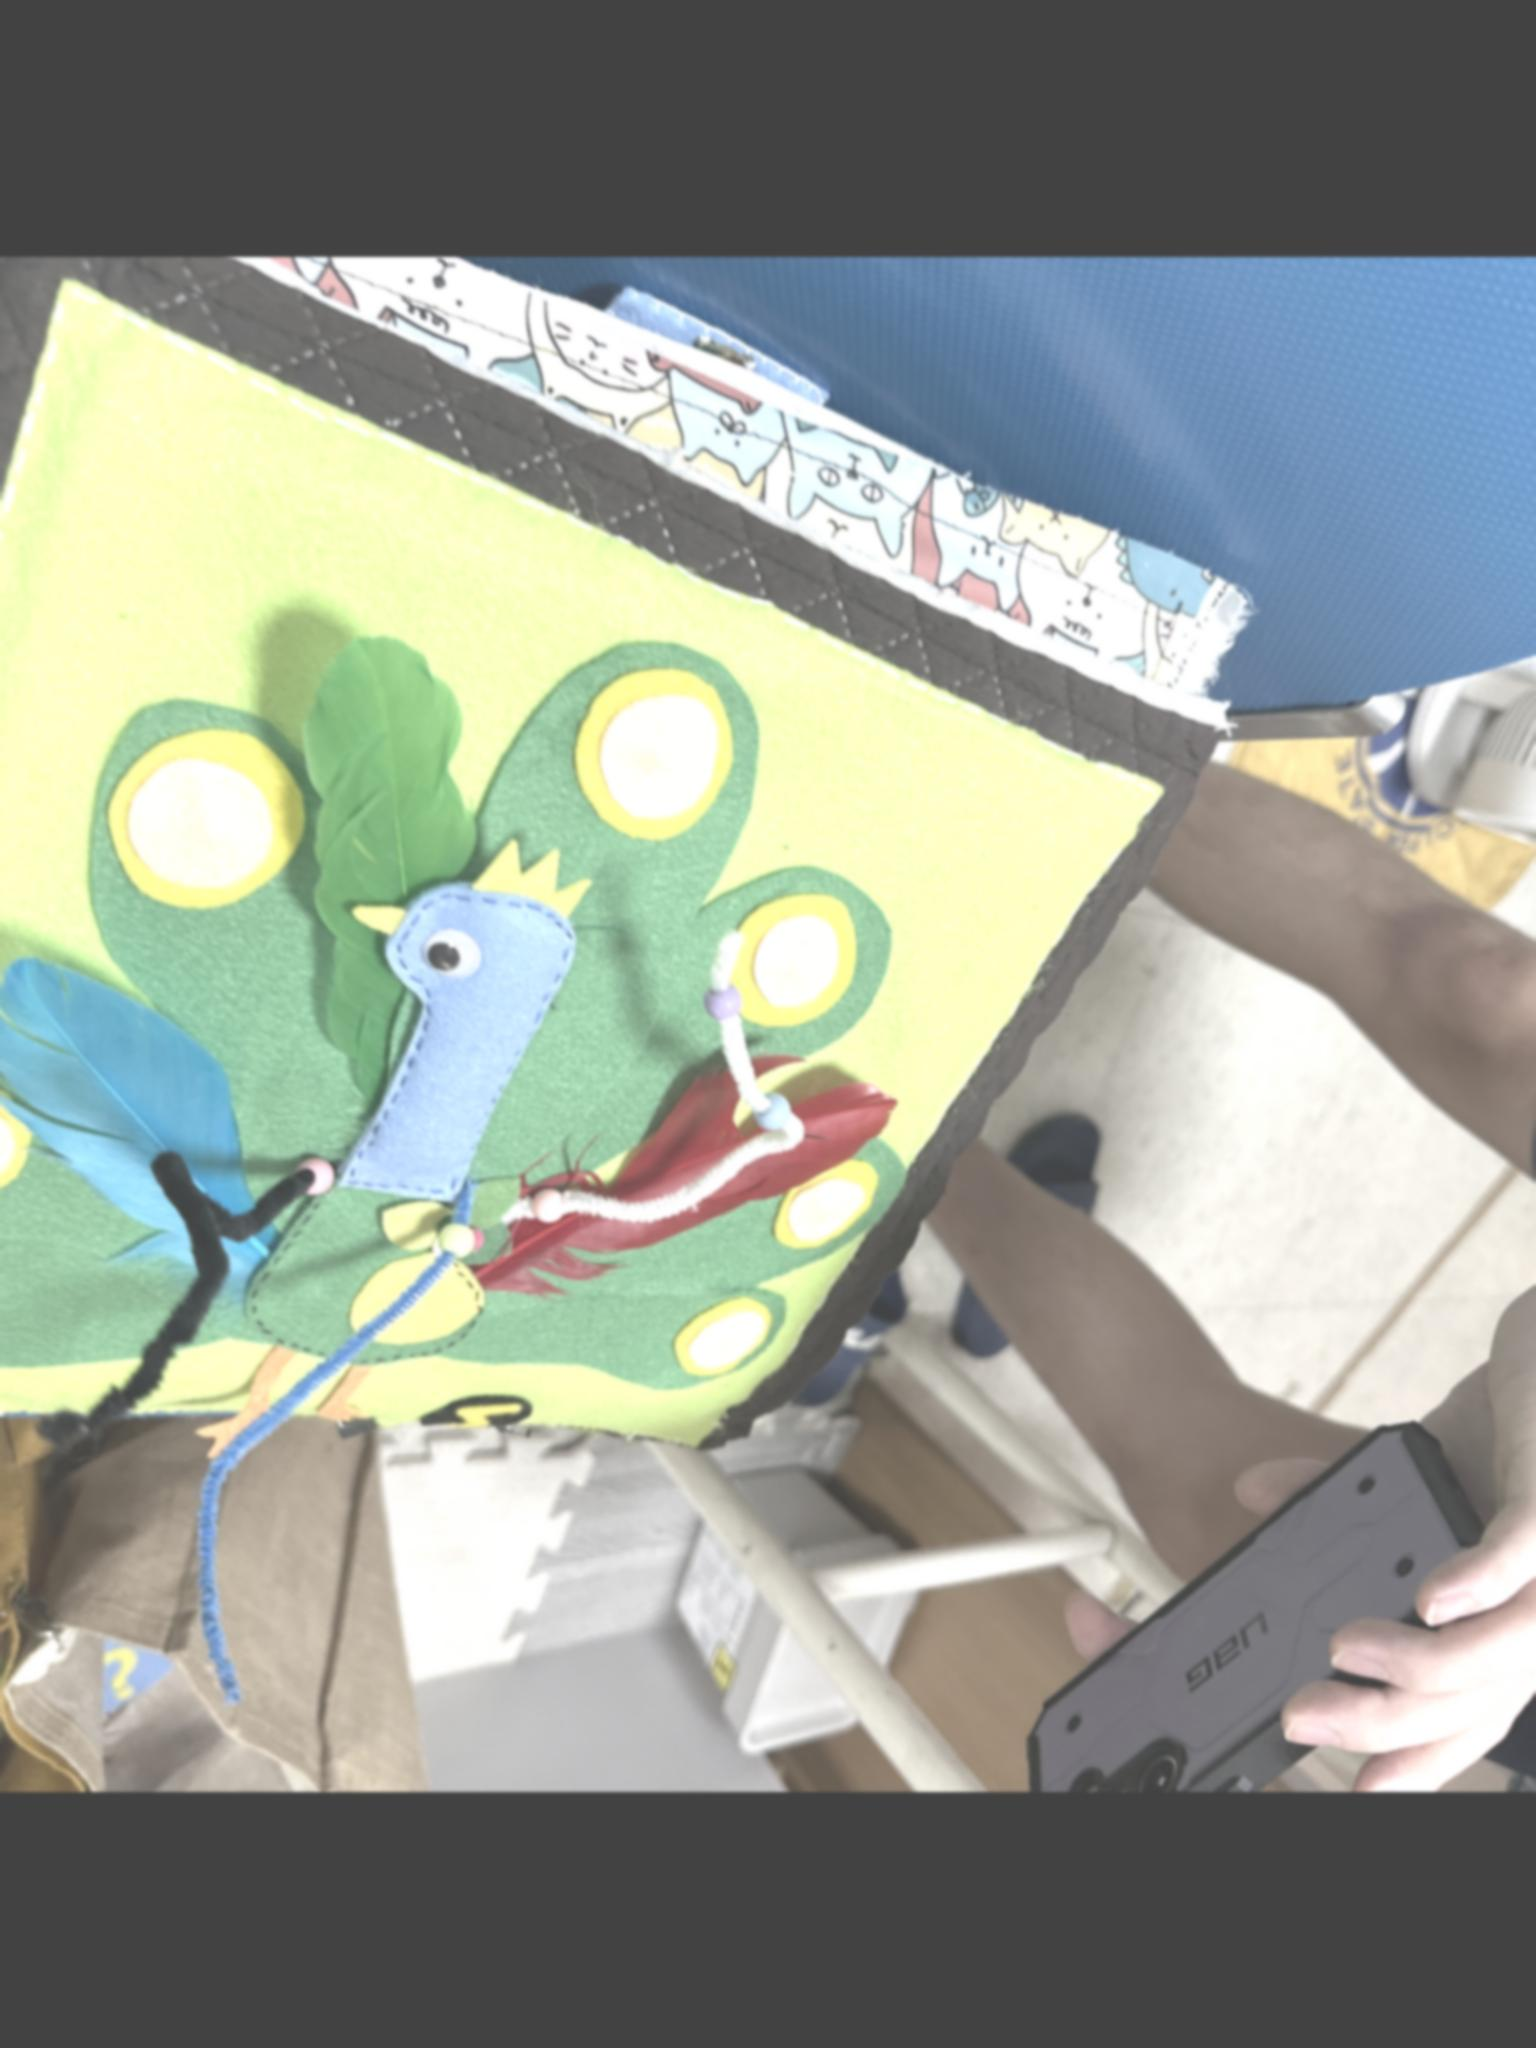bead: (281, 1135, 345, 1214), (674, 972, 753, 1030), (747, 1090, 807, 1135), (524, 1185, 565, 1237), (426, 1219, 481, 1256)
